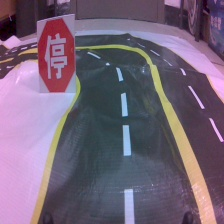stop: (35, 14, 77, 96)
